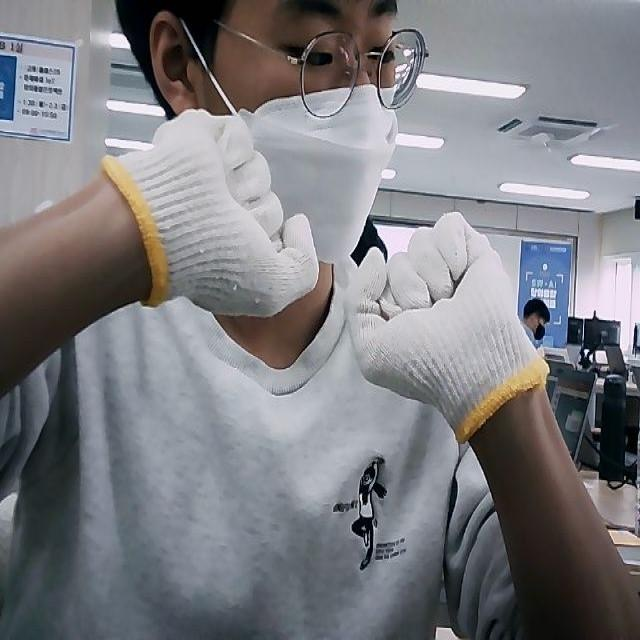Guantes: (104, 109, 320, 317), (353, 210, 549, 439)
